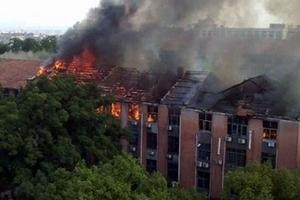fire: (37, 50, 97, 76), (103, 99, 148, 119)
